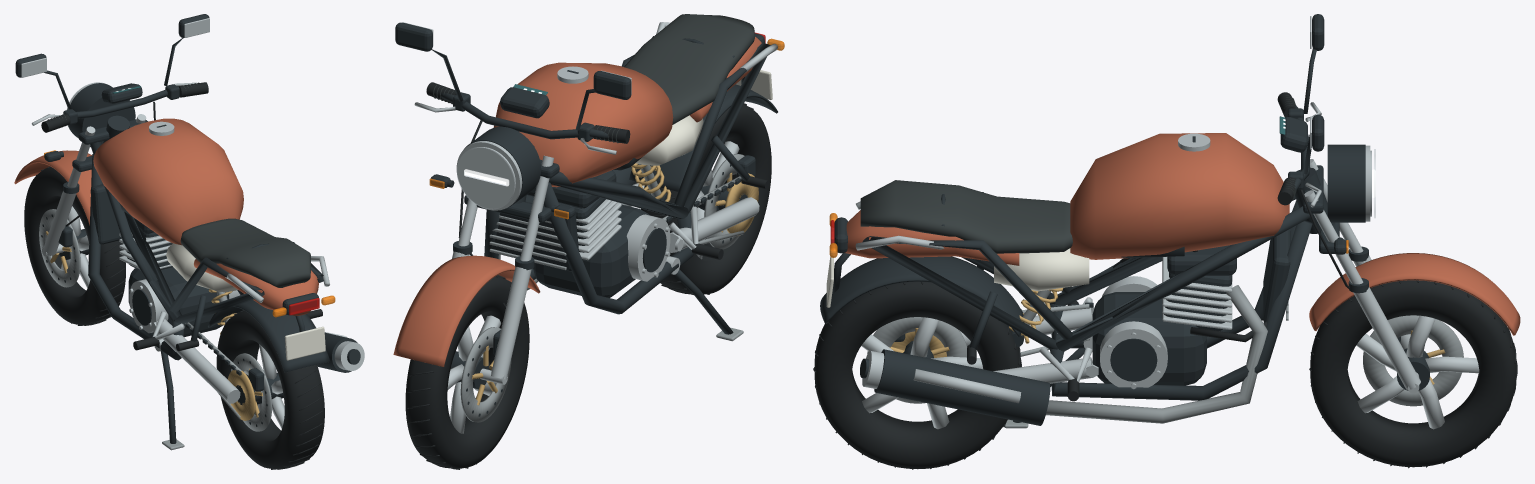
The model's file is motorcycle-street.glb.
The picture shows the model from 3 angles, left to right: view 1: azimuth 30°, elevation 25°; view 2: azimuth 150°, elevation 25°; view 3: azimuth 270°, elevation 25°; orthographic projection. The views are drawn at different scales.
Parts seen in each view (by area): view 1: street_root__03_powdercoat, street_root__01_body_enamel, wheel_rear__04_tire_rubber, wheel_front__04_tire_rubber, street_root__05_grained_saddle, steering__03_powdercoat, street_root__06_brushed_alloy, steering__06_brushed_alloy, street_root__02_ivory_trim, steering__01_body_enamel, wheel_front__07_disc_steel, wheel_rear__07_disc_steel (+7 smaller); view 2: street_root__03_powdercoat, street_root__01_body_enamel, wheel_front__04_tire_rubber, steering__03_powdercoat, street_root__05_grained_saddle, steering__06_brushed_alloy, steering__01_body_enamel, street_root__06_brushed_alloy, wheel_rear__04_tire_rubber, steering__11_clear_headlamp_lens, street_root__07_disc_steel, street_root__02_ivory_trim (+10 smaller); view 3: street_root__03_powdercoat, street_root__01_body_enamel, wheel_front__04_tire_rubber, wheel_rear__04_tire_rubber, street_root__06_brushed_alloy, street_root__05_grained_saddle, steering__03_powdercoat, steering__01_body_enamel, street_root__07_disc_steel, steering__06_brushed_alloy, wheel_front__06_brushed_alloy, street_root__02_ivory_trim (+5 smaller).
Part boxes in pixels (<box>): street_root__03_powdercoat: <box>88,115,360,391</box>; street_root__01_body_enamel: <box>93,118,318,315</box>; wheel_rear__04_tire_rubber: <box>216,310,324,469</box>; wheel_front__04_tire_rubber: <box>24,166,125,325</box>; street_root__05_grained_saddle: <box>180,218,310,287</box>; steering__03_powdercoat: <box>15,14,209,247</box>; street_root__06_brushed_alloy: <box>119,121,364,403</box>; steering__06_brushed_alloy: <box>21,18,209,256</box>; street_root__02_ivory_trim: <box>166,243,325,360</box>; steering__01_body_enamel: <box>14,150,91,225</box>; wheel_front__07_disc_steel: <box>39,209,80,287</box>; wheel_rear__07_disc_steel: <box>231,353,272,431</box>; street_root__03_powdercoat: <box>484,33,777,314</box>; street_root__01_body_enamel: <box>493,37,761,187</box>; wheel_front__04_tire_rubber: <box>405,275,529,469</box>; steering__03_powdercoat: <box>395,22,631,355</box>; street_root__05_grained_saddle: <box>624,14,754,124</box>; steering__06_brushed_alloy: <box>402,22,631,384</box>; steering__01_body_enamel: <box>393,255,540,366</box>; street_root__06_brushed_alloy: <box>557,22,777,281</box>; wheel_rear__04_tire_rubber: <box>641,103,771,294</box>; steering__11_clear_headlamp_lens: <box>457,147,514,209</box>; street_root__07_disc_steel: <box>489,164,744,290</box>; street_root__02_ivory_trim: <box>635,70,772,165</box>; street_root__03_powdercoat: <box>820,136,1334,425</box>; street_root__01_body_enamel: <box>845,133,1289,265</box>; wheel_front__04_tire_rubber: <box>1309,280,1517,468</box>; wheel_rear__04_tire_rubber: <box>813,281,1021,469</box>; street_root__06_brushed_alloy: <box>855,133,1232,403</box>; street_root__05_grained_saddle: <box>860,180,1072,253</box>; steering__03_powdercoat: <box>1280,14,1400,342</box>; steering__01_body_enamel: <box>1309,253,1520,335</box>; street_root__07_disc_steel: <box>1020,285,1288,423</box>; steering__06_brushed_alloy: <box>1304,16,1420,393</box>; wheel_front__06_brushed_alloy: <box>1356,315,1479,429</box>; street_root__02_ivory_trim: <box>826,248,1089,307</box>.
Size of the model in its own units: 0.885 by 1.36 by 2.23.
